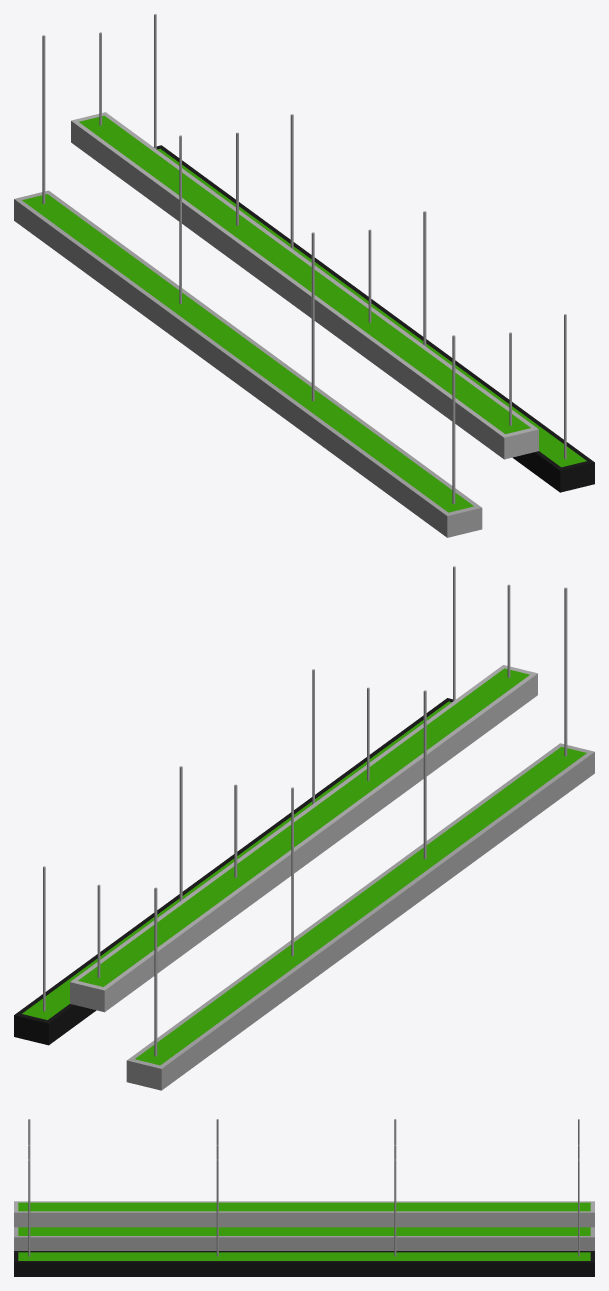
File: edgeLights.fbx
The picture shows the model from 3 angles, top to bottom: view 1: azimuth 30°, elevation 25°; view 2: azimuth 150°, elevation 25°; view 3: azimuth 270°, elevation 25°; orthographic projection. The views are drawn at different scales.
Parts seen in each view (by area): view 1: pCube111, pCube109, pCube110, pCylinder27, pCylinder23, pCylinder33; view 2: pCube111, pCube109, pCube110, pCylinder23, pCylinder27, pCylinder33; view 3: pCube109, pCube110, pCube111, pCylinder24, pCylinder28, pCylinder31.
Boxes of the visible parts, x1=… form: pCube111: x1=14, y1=190, x2=482, y2=537; pCube109: x1=71, y1=112, x2=538, y2=459; pCube110: x1=156, y1=145, x2=594, y2=492; pCylinder27: x1=311, y1=232, x2=314, y2=401; pCylinder23: x1=452, y1=335, x2=455, y2=503; pCylinder33: x1=42, y1=35, x2=45, y2=203; pCube111: x1=126, y1=743, x2=594, y2=1090; pCube109: x1=70, y1=665, x2=537, y2=1012; pCube110: x1=14, y1=698, x2=452, y2=1045; pCylinder23: x1=564, y1=587, x2=567, y2=756; pCylinder27: x1=423, y1=690, x2=426, y2=859; pCylinder33: x1=154, y1=887, x2=157, y2=1056; pCube109: x1=14, y1=1201, x2=594, y2=1227; pCube110: x1=14, y1=1251, x2=594, y2=1276; pCube111: x1=14, y1=1227, x2=594, y2=1250; pCylinder24: x1=28, y1=1159, x2=30, y2=1256; pCylinder28: x1=216, y1=1159, x2=218, y2=1256; pCylinder31: x1=394, y1=1159, x2=396, y2=1256.
Bounding box in the file's own units: 4.24 × 5.2 × 21.57.
